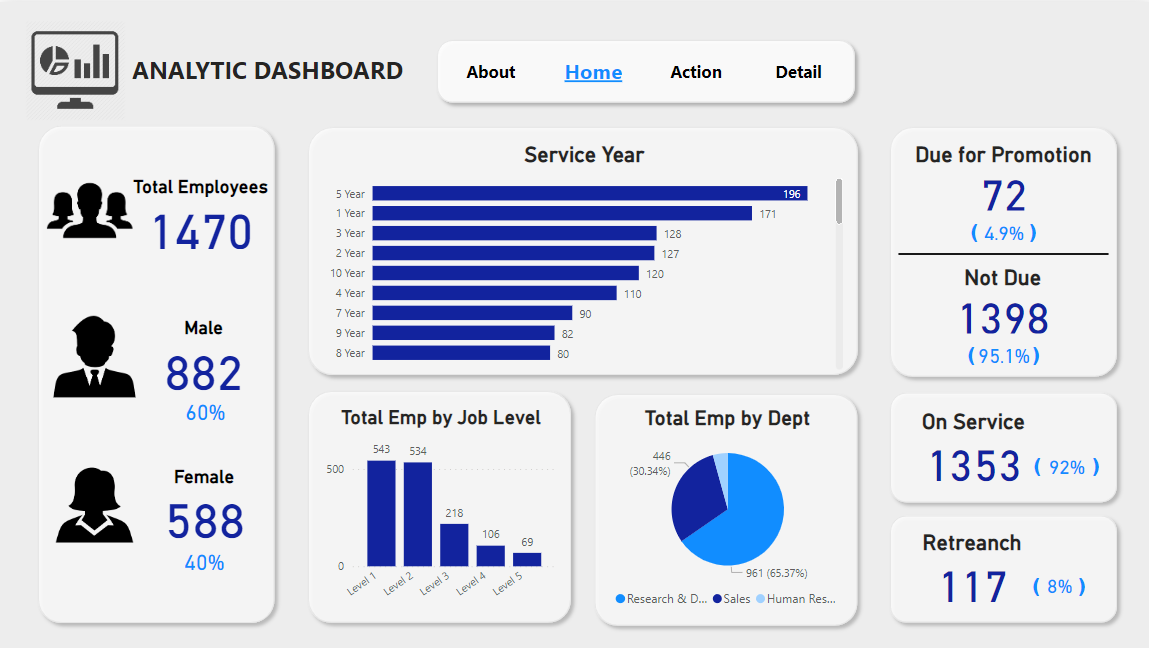

The page's visual inventory and layout, read from the dashboard file:
{"tool":"powerbi","page":{"name":"Home","canvas":[1280,720],"ordinal":1},"visuals":[{"type":"image","box":[0,15,166.7,121.7],"z":0,"group":"g2"},{"type":"shape","box":[476.8,33.2,482.2,87.4],"z":0,"group":"g3"},{"type":"shape","box":[33,128.2,280.7,570.6],"z":0,"group":"g1"},{"type":"shape","box":[333.3,130,628.3,293.3],"z":0},{"type":"textbox","box":[141.7,51.7,340,60],"z":1000,"group":"g2"},{"type":"card","title":"Total Employees","fields":{"Values":["Sheet 1.Total emp"]},"box":[110.4,192.9,225.9,86.3],"z":1000,"group":"g1"},{"type":"shape","box":[980,425,270,140],"z":1000},{"type":"card","title":"Male","fields":{"Values":["Sheet 1.male_count"]},"box":[149.8,350.3,152.6,87.2],"z":2000,"group":"g1"},{"type":"shape","box":[980,561.7,270,136.7],"z":2000},{"type":"clusteredBarChart","title":"Service Year","fields":{"Category":["Sheet 1.Service Year"],"Y":["Sum(Sheet 1.EmployeeCount)"]},"box":[356.7,155,585,258.3],"z":3000},{"type":"card","title":"Female","fields":{"Values":["Sheet 1.Female_count"]},"box":[140.4,515,173.4,87.2],"z":3000,"group":"g1"},{"type":"shape","box":[980,130,270,295],"z":4000},{"type":"group","id":"g1","title":"Group 1","box":[13.6,128.2,322.6,570.6],"z":5000,"group":"g2"},{"type":"card","title":"On Service","fields":{"Values":["Sheet 1.On service"]},"box":[1015,451.7,133.3,88.3],"z":5000},{"type":"image","box":[40.6,170.2,118.7,124],"z":6000,"group":"g1"},{"type":"card","fields":{"Values":["Sheet 1.% On Service"]},"box":[1151.7,495,66.7,41.7],"z":6000},{"type":"image","box":[13.6,343.8,183.9,101.2],"z":7000,"group":"g1"},{"type":"card","title":"Retreanch","fields":{"Values":["Sheet 1.Retreanch"]},"box":[1016.7,586.7,126.7,86.7],"z":7000},{"type":"image","box":[23.3,511.4,162.9,94.5],"z":8000,"group":"g1"},{"type":"card","fields":{"Values":["Sheet 1.% Retreanch"]},"box":[1148.3,633.3,58.3,31.7],"z":8000},{"type":"card","fields":{"Values":["Sheet 1.Male %"]},"box":[195.1,416.2,65.9,77.5],"z":9000,"group":"g1"},{"type":"shape","box":[333.3,423.3,310,275],"z":9000},{"type":"shape","box":[651.7,426.7,310,275],"z":10000},{"type":"card","fields":{"Values":["Sheet 1.Female %"]},"box":[197,602.2,60.3,38.7],"z":10000,"group":"g1"},{"type":"clusteredColumnChart","title":"Total Emp by Job Level","fields":{"Category":["Sheet 1.Job Levels"],"Y":["Sum(Sheet 1.EmployeeCount)"]},"box":[356.7,448.3,266.7,233.3],"z":11000},{"type":"pageNavigator","box":[494.3,52.3,448.2,50.9],"z":12000,"group":"g3"},{"type":"textbox","box":[1085,626.7,183.3,53.3],"z":12000},{"type":"pieChart","title":"Total Emp by Dept","fields":{"Category":["Sheet 1.Department"],"Y":["Sum(Sheet 1.EmployeeCount)"]},"box":[675,448.3,266.7,233.3],"z":13000},{"type":"card","title":"Due for Promotion","fields":{"Values":["Sheet 1.Due for promotion"]},"box":[980,155,270,81.7],"z":14000},{"type":"card","title":"Not Due","fields":{"Values":["Sheet 1.not due"]},"box":[1030,291.7,168.3,81.7],"z":15000},{"type":"group","id":"g2","title":"Group 3","box":[0,15,481.7,683.8],"z":16000},{"type":"group","id":"g3","title":"Group 2","box":[476.8,33.2,482.2,87.4],"z":17000},{"type":"shape","box":[998.3,263.3,233.3,33.3],"z":18000},{"type":"card","fields":{"Values":["Sheet 1.% Due for Promotion"]},"box":[1075,236.7,80,38.3],"z":19000},{"type":"card","fields":{"Values":["Sheet 1.% Not Due"]},"box":[1076.7,373.3,76.7,40],"z":20000},{"type":"textbox","box":[1073.3,233.3,103.3,51.7],"z":21000},{"type":"textbox","box":[1070,370,106.7,51.7],"z":22000},{"type":"textbox","box":[1143.3,493.3,106.7,51.7],"z":23000}]}

Visuals, with their boxes in screenshot pixels (x1, y1, x2, y2), scaled from the page's 1280x720 canvas onto the 1149x648 screenshot:
image: 0,14,150,123
shape: 428,30,861,109
shape: 30,115,282,629
shape: 299,117,863,381
textbox: 127,47,432,101
"Total Employees" card: 99,174,302,251
shape: 880,382,1122,508
"Male" card: 134,315,271,394
shape: 880,506,1122,629
"Service Year" clusteredBarChart: 320,140,845,372
"Female" card: 126,464,282,542
shape: 880,117,1122,382
"Group 1" group: 12,115,302,629
"On Service" card: 911,407,1031,486
image: 36,153,143,265
card - Sheet 1.% On Service: 1034,446,1094,483
image: 12,309,177,400
"Retreanch" card: 913,528,1026,606
image: 21,460,167,545
card - Sheet 1.% Retreanch: 1031,570,1083,598
card - Sheet 1.Male %: 175,375,234,444
shape: 299,381,577,628
shape: 585,384,863,632
card - Sheet 1.Female %: 177,542,231,577
"Total Emp by Job Level" clusteredColumnChart: 320,403,560,613
pageNavigator: 444,47,846,93
textbox: 974,564,1138,612
"Total Emp by Dept" pieChart: 606,403,845,613
"Due for Promotion" card: 880,140,1122,213
"Not Due" card: 925,263,1076,336
"Group 3" group: 0,14,432,629
"Group 2" group: 428,30,861,109
shape: 896,237,1106,267
card - Sheet 1.% Due for Promotion: 965,213,1037,248
card - Sheet 1.% Not Due: 967,336,1035,372
textbox: 963,210,1056,256
textbox: 960,333,1056,380
textbox: 1026,444,1122,490
